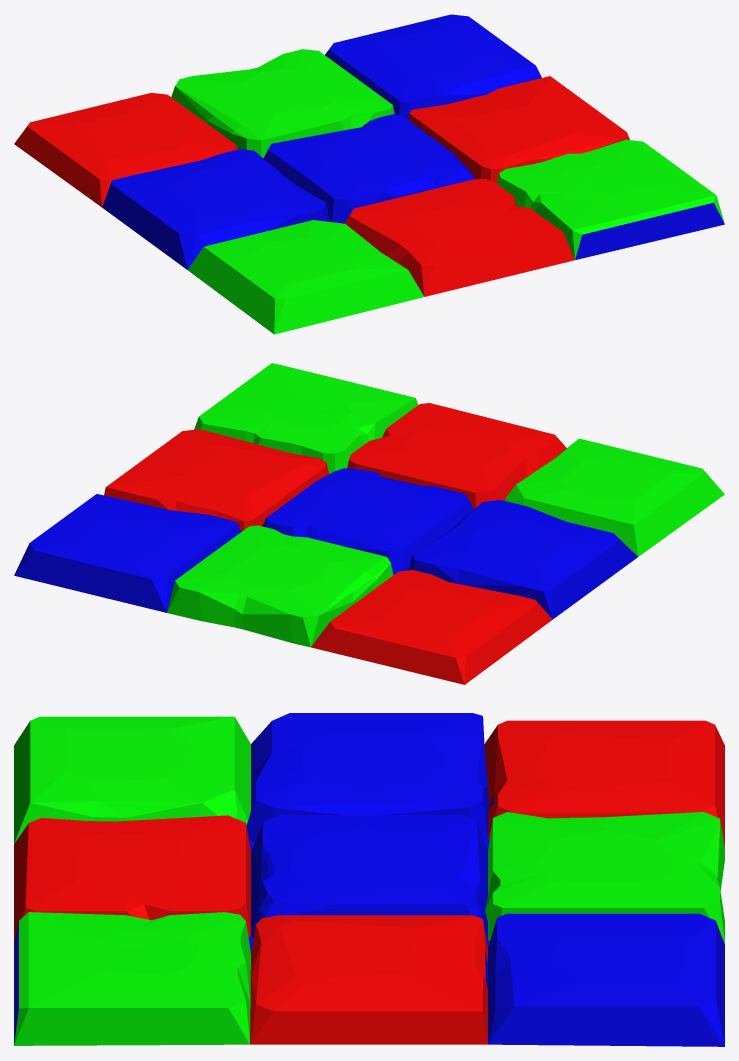
Rendered from dungeon_base_fill.fbx.
3 views of the same model, one above another, from view 1: azimuth 30°, elevation 25°; view 2: azimuth 150°, elevation 25°; view 3: azimuth 270°, elevation 25° (orthographic). The views are drawn at different scales.
Visible parts, largest first — view 1: dungeon_base_fill; view 2: dungeon_base_fill; view 3: dungeon_base_fill.
Part boxes in pixels (x1,y1,x2,y2): dungeon_base_fill: [14, 14, 724, 334]; dungeon_base_fill: [14, 363, 724, 684]; dungeon_base_fill: [14, 713, 724, 1046].
Size of the model in its own units: 200 by 200 by 12.27.
